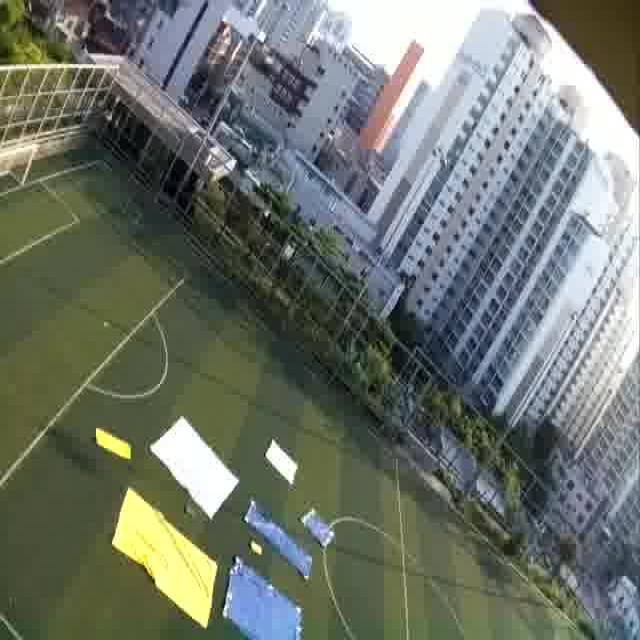danger: (227, 584, 302, 640), (244, 503, 282, 543), (304, 509, 330, 542)
safety: (172, 441, 228, 499), (263, 442, 301, 482)
warning: (132, 538, 215, 597), (96, 425, 132, 464)
